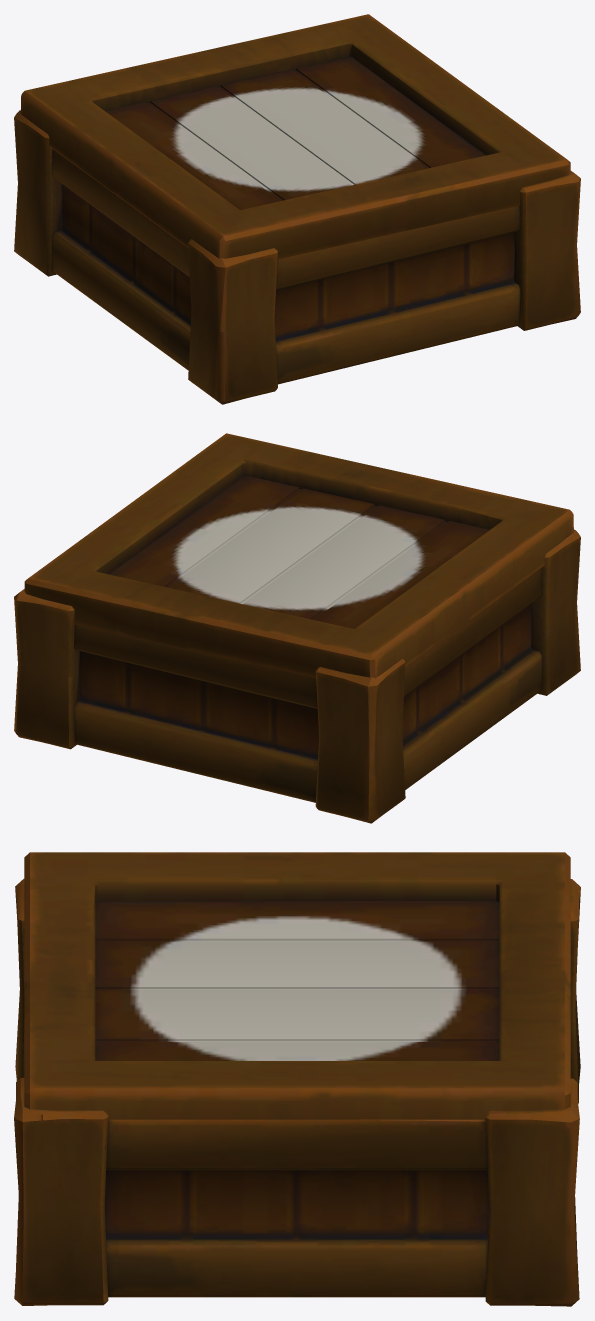
File: CreateBox2.fbx
3 renders of one model, top to bottom at view 1: azimuth 30°, elevation 25°; view 2: azimuth 150°, elevation 25°; view 3: azimuth 270°, elevation 25°, orthographic. The views are drawn at different scales.
Parts seen in each view (by area): view 1: m_sk_crate_01_Lid_0, m_sk_crate_01_Body_0; view 2: m_sk_crate_01_Lid_0, m_sk_crate_01_Body_0; view 3: m_sk_crate_01_Lid_0, m_sk_crate_01_Body_0.
Part boxes in pixels (x1,y1,x2,y2): m_sk_crate_01_Lid_0: (20, 14, 570, 259); m_sk_crate_01_Body_0: (14, 110, 580, 404); m_sk_crate_01_Lid_0: (24, 433, 573, 678); m_sk_crate_01_Body_0: (14, 529, 580, 823); m_sk_crate_01_Lid_0: (24, 852, 570, 1119); m_sk_crate_01_Body_0: (14, 879, 580, 1306).
Bounding box in the file's own units: 1.04 × 0.4525 × 1.04.
2 materials, 2 textured.
